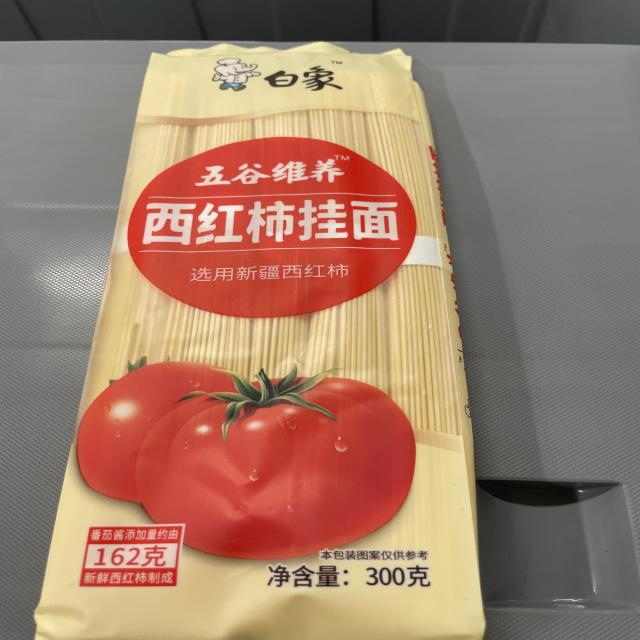object_name: (99, 53, 468, 638)
